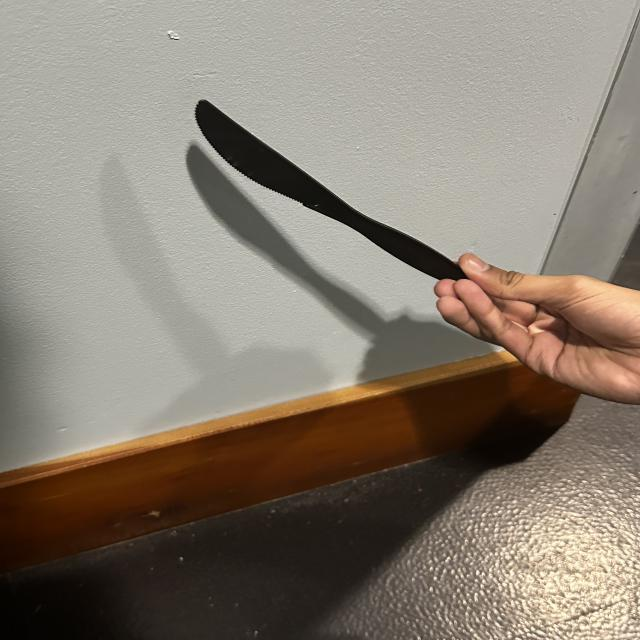knife: (168, 64, 480, 314)
